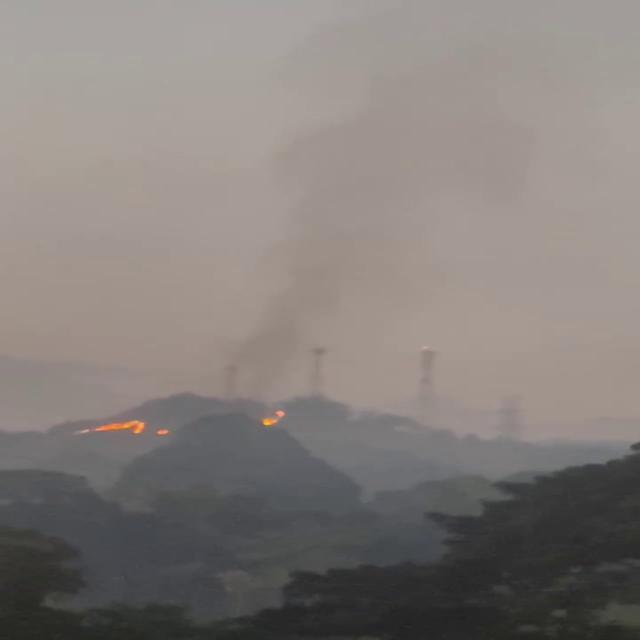Fire: (85, 415, 169, 437), (259, 406, 289, 430)
Smoke: (191, 1, 640, 416)
